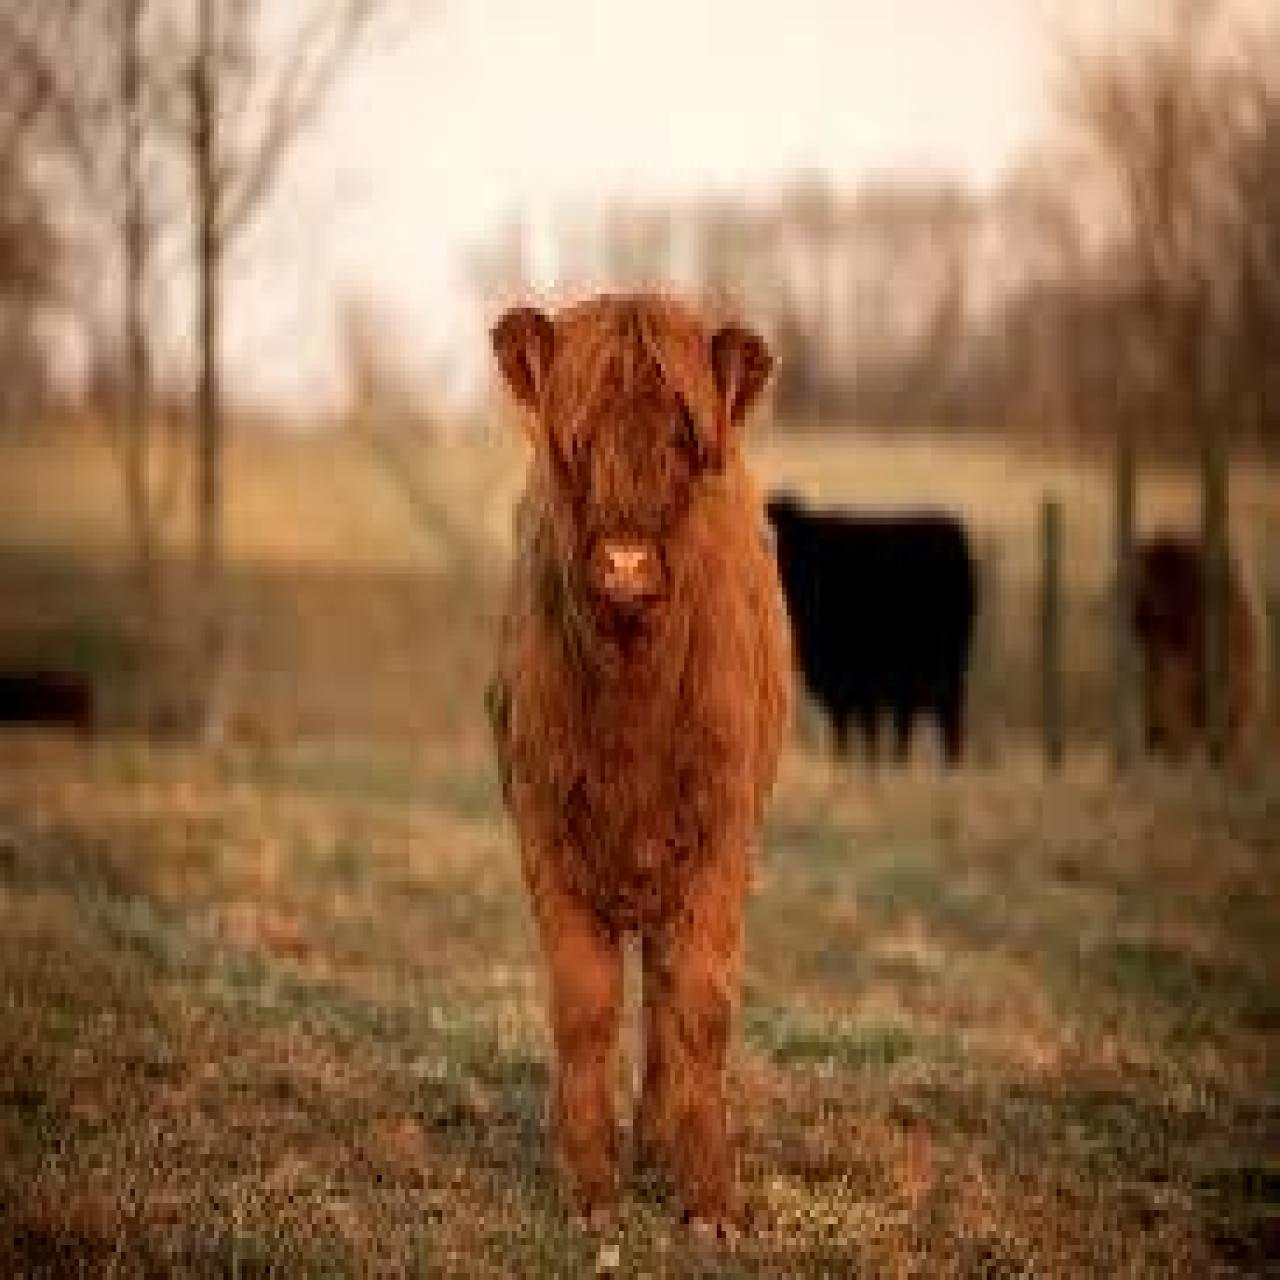cow: (484, 291, 796, 1234), (761, 486, 975, 779)
